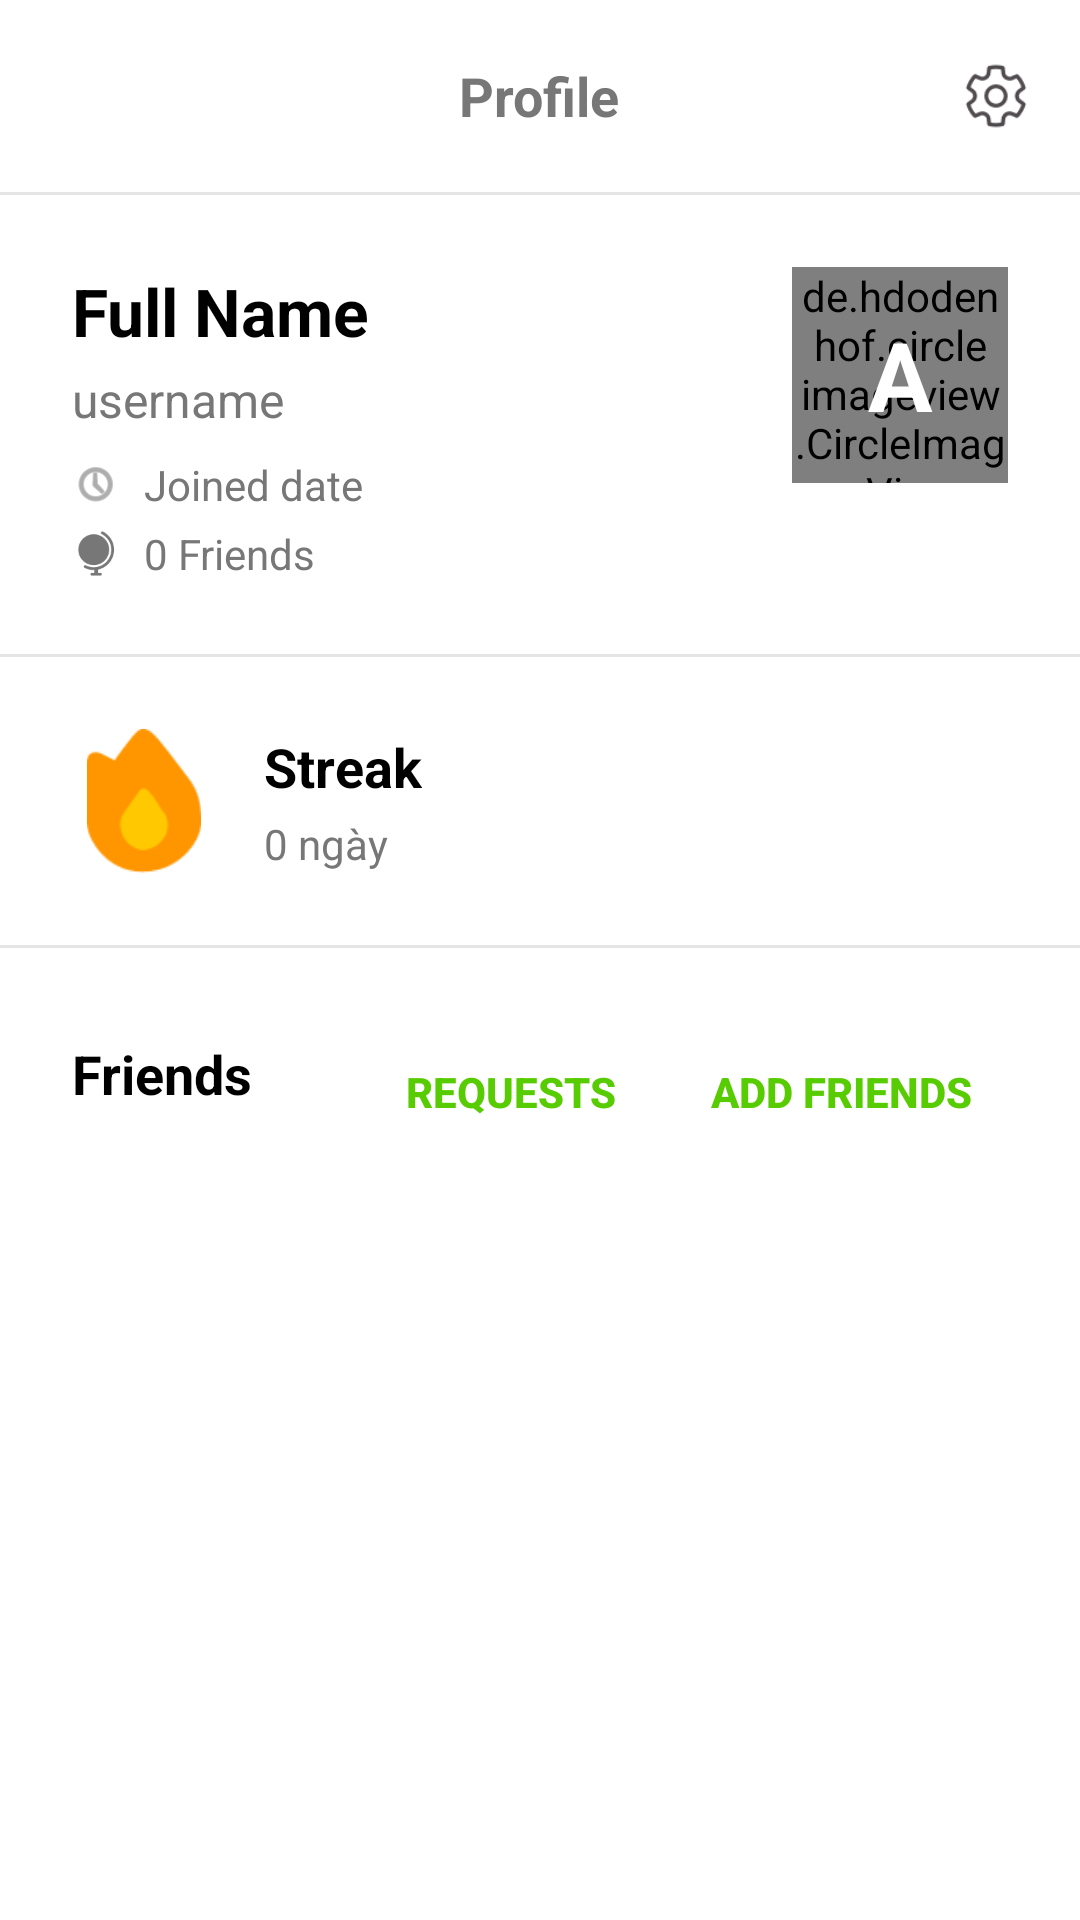

Where icons sit on this 1080×1920 app screen, as (x1, y1, x2, y2):
fire: (87, 729, 201, 873)
recent history: (78, 467, 113, 502)
setting: (966, 64, 1026, 128)
